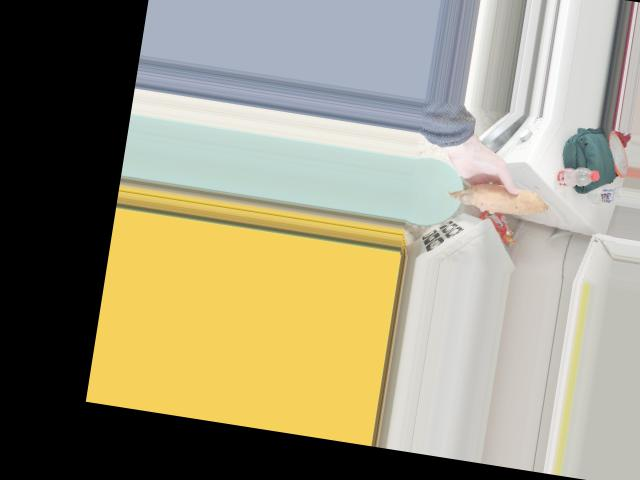sweet_potato: (458, 181, 547, 217)
